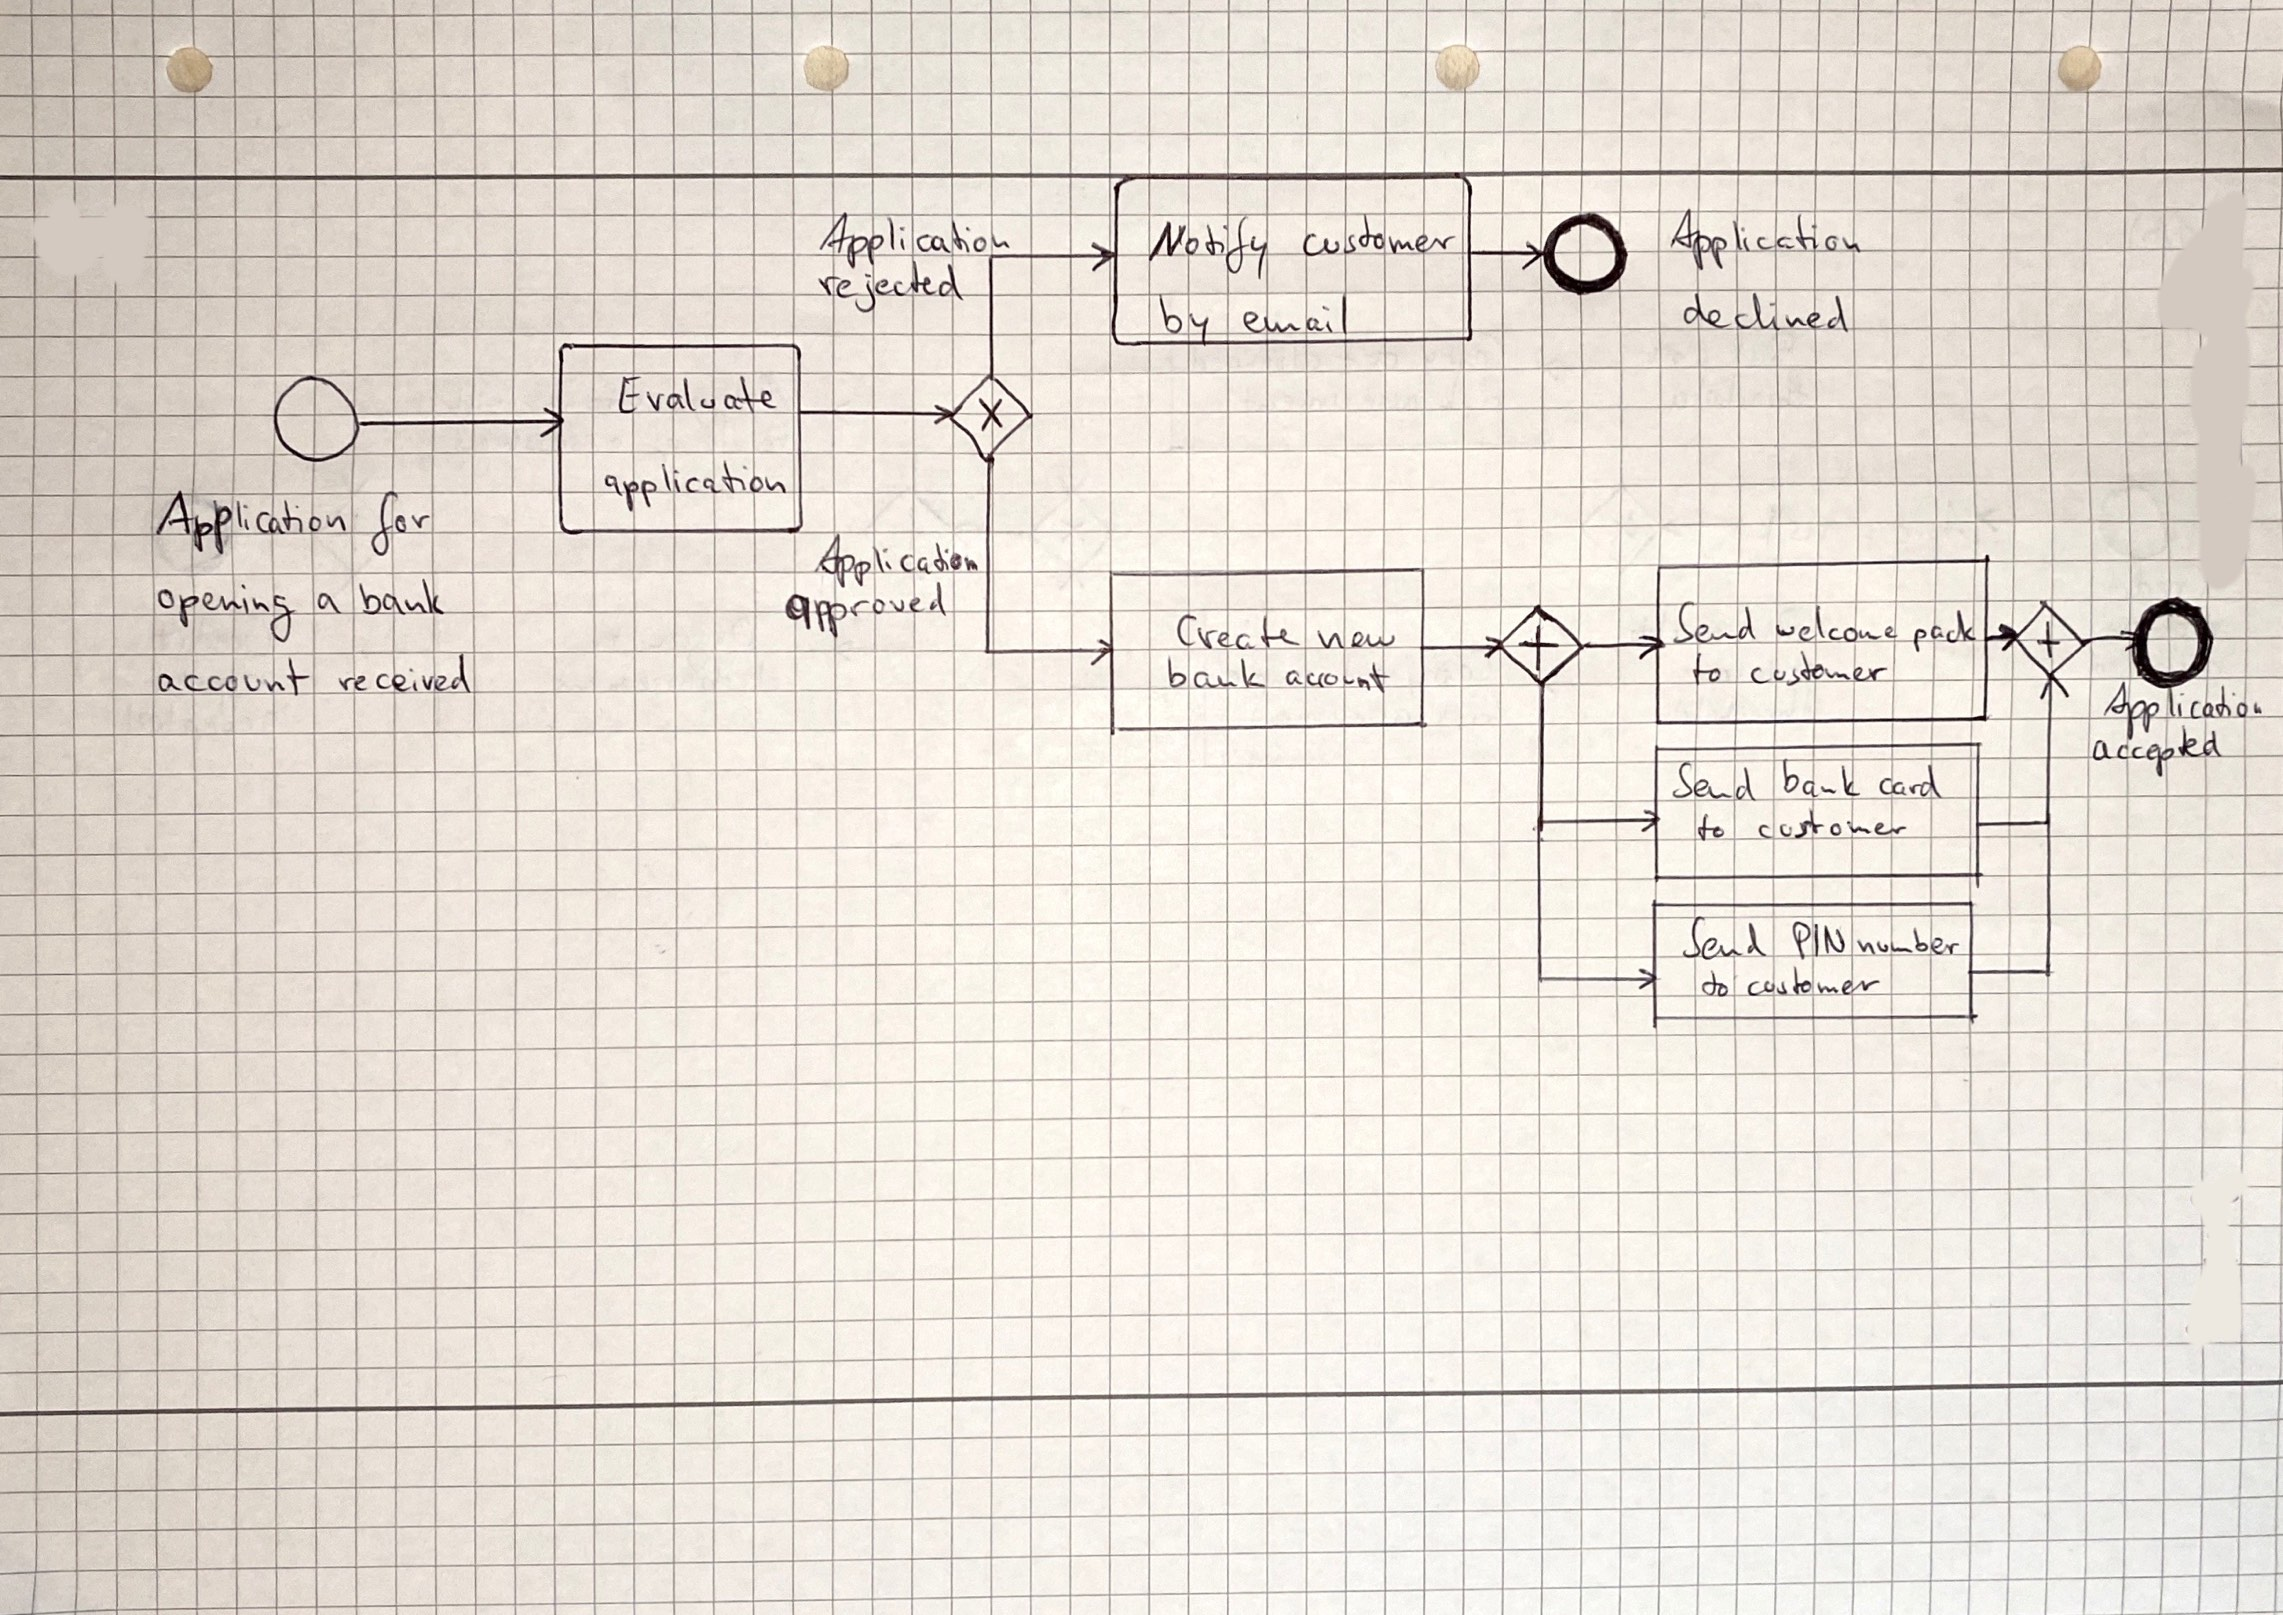Application: (142, 477, 358, 563), (1662, 203, 1872, 269), (813, 211, 1017, 266), (802, 530, 982, 586), (2101, 682, 2269, 736)
Create: (1166, 605, 1315, 655)
Evaluate: (615, 374, 776, 419)
Notify: (1133, 204, 1276, 274)
PIN: (1787, 919, 1844, 963)
Send: (1669, 907, 1778, 967), (1664, 593, 1766, 654), (1662, 753, 1771, 806)
a: (306, 577, 351, 624)
accepted: (2092, 725, 2236, 771)
account: (149, 655, 320, 703), (1285, 659, 1390, 696)
application: (601, 456, 788, 512)
approved: (771, 579, 954, 634)
bank: (351, 573, 449, 622), (1164, 657, 1278, 694), (1780, 757, 1865, 804)
by: (1147, 288, 1220, 343)
card: (1872, 759, 1946, 809)
customer: (1287, 215, 1465, 276), (1750, 807, 1907, 851), (1743, 648, 1900, 692), (1736, 963, 1886, 1009)
declined: (1668, 287, 1863, 337)
email: (1239, 290, 1357, 343)
for: (357, 486, 446, 556)
new: (1309, 612, 1400, 659)
number: (1853, 923, 1961, 963)
opening: (149, 580, 306, 647)
pack: (1911, 601, 1982, 661)
received: (334, 645, 482, 699)
rejected: (801, 259, 972, 313)
to: (1680, 648, 1738, 694), (1689, 965, 1741, 1014), (1685, 809, 1743, 848)
welcome: (1767, 594, 1909, 655)
